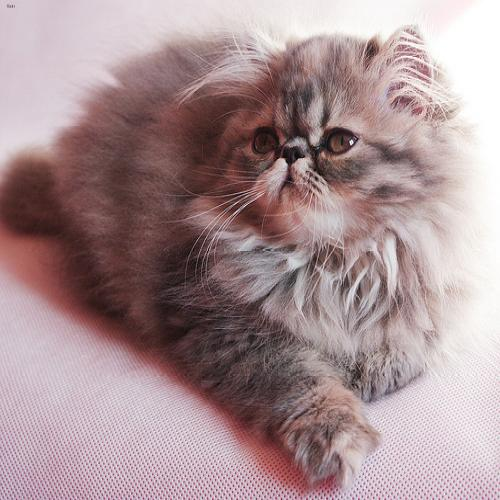persian: (194, 20, 453, 283)
